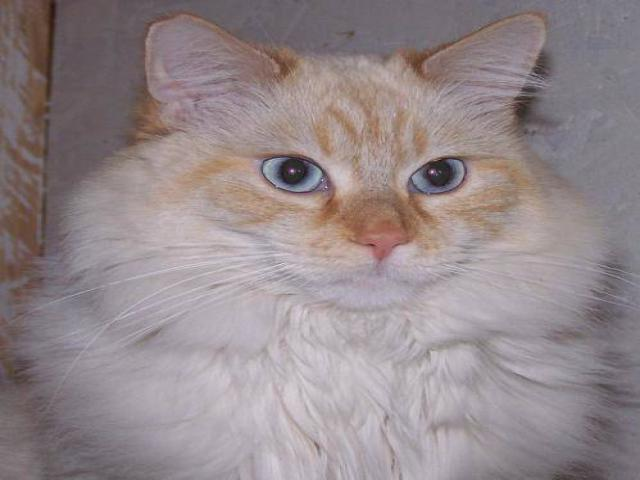cat: (20, 2, 629, 479)
